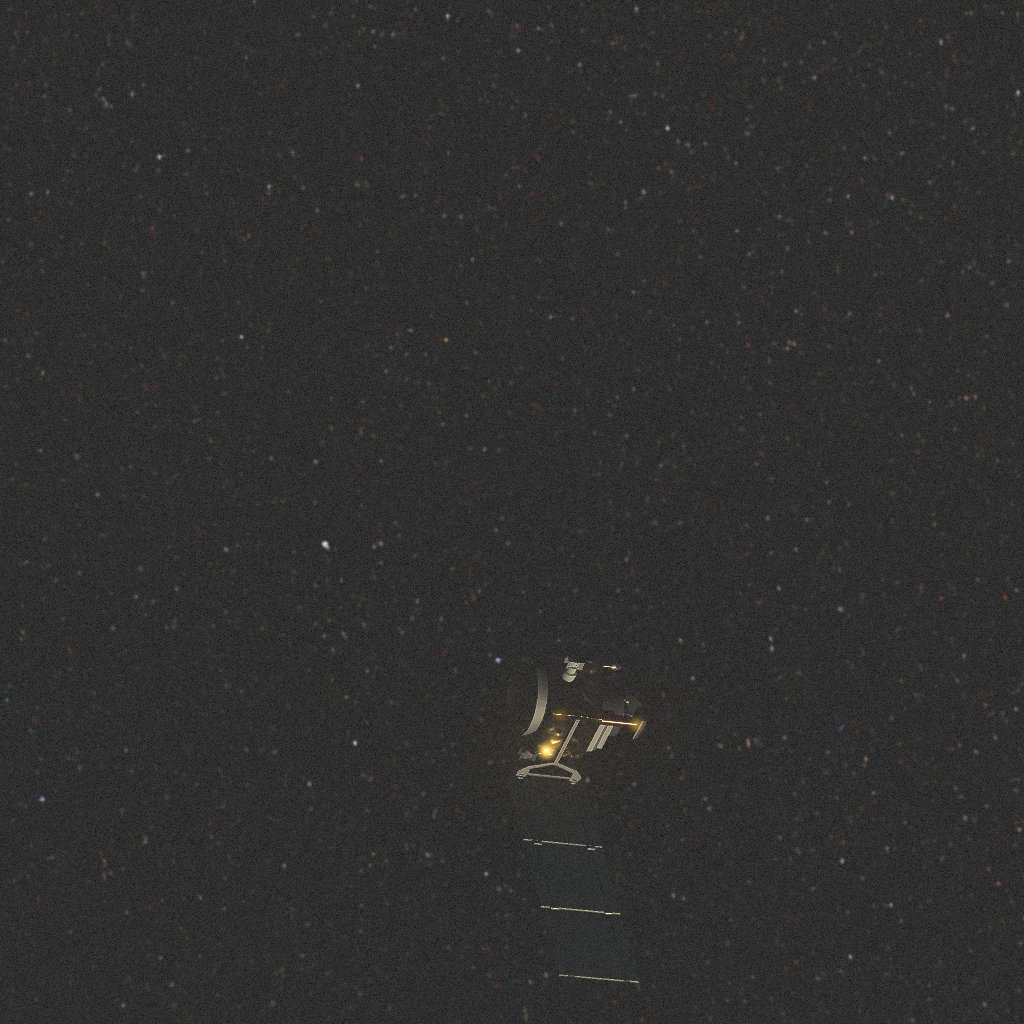earth_observation_sat_1: (505, 639, 647, 983)
